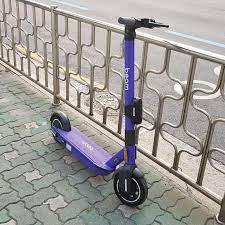kick_board: (52, 16, 170, 203)
kick_handler: (119, 17, 171, 39)
kick_neck: (123, 41, 142, 161)
kick_wheel: (113, 166, 148, 206), (51, 112, 68, 143)
